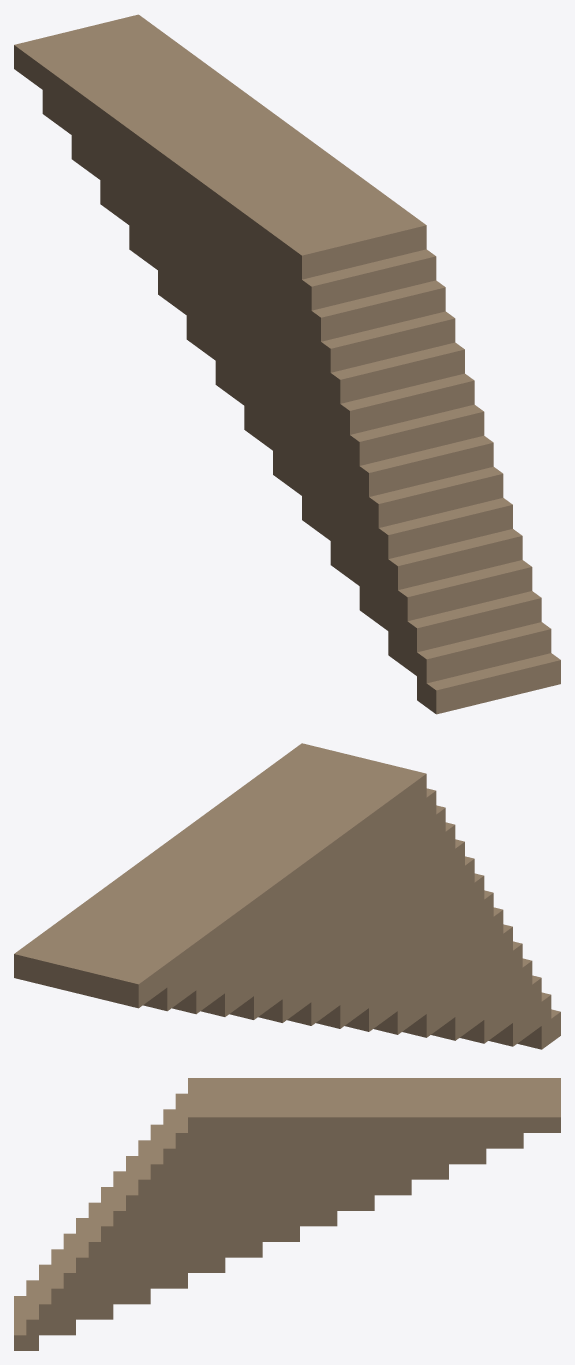
The model's file is iz2_stair_straight_wood.glb.
3 views of the same model, one above another, from view 1: azimuth 30°, elevation 25°; view 2: azimuth 150°, elevation 25°; view 3: azimuth 270°, elevation 25° (orthographic). The views are drawn at different scales.
Visible parts, largest first — view 1: step_15, step_14, step_13, step_12, step_11, step_10, step_09, step_08, step_07, step_06, step_05, step_04 (+3 smaller); view 2: step_15, step_14, step_13, step_12, step_11, step_10, step_09, step_08, step_07, step_06, step_05, step_04 (+3 smaller); view 3: step_15, step_14, step_13, step_12, step_11, step_10, step_09, step_08, step_07, step_06, step_05, step_04 (+3 smaller).
Boxes of the visible parts, box(x1,y1,x2,y2) form: step_15: box(14, 14, 426, 279); step_14: box(42, 90, 436, 310); step_13: box(71, 135, 445, 341); step_12: box(100, 180, 455, 372); step_11: box(129, 225, 464, 403); step_10: box(158, 271, 474, 434); step_09: box(186, 316, 484, 465); step_08: box(215, 361, 493, 496); step_07: box(244, 406, 503, 527); step_06: box(273, 451, 512, 558); step_05: box(302, 496, 522, 589); step_04: box(330, 541, 532, 621); step_15: box(14, 743, 426, 1008); step_14: box(143, 788, 436, 1011); step_13: box(172, 805, 445, 1014); step_12: box(201, 822, 455, 1016); step_11: box(229, 839, 464, 1019); step_10: box(258, 856, 474, 1022); step_09: box(287, 873, 484, 1025); step_08: box(316, 890, 493, 1028); step_07: box(345, 907, 503, 1031); step_06: box(373, 924, 512, 1034); step_05: box(402, 941, 522, 1037); step_04: box(431, 958, 532, 1040); step_15: box(188, 1078, 560, 1132); step_14: box(175, 1093, 523, 1148); step_13: box(163, 1109, 486, 1164); step_12: box(150, 1124, 448, 1179); step_11: box(138, 1140, 411, 1195); step_10: box(126, 1156, 374, 1210); step_09: box(113, 1171, 337, 1226); step_08: box(101, 1187, 299, 1241); step_07: box(88, 1202, 262, 1257); step_06: box(76, 1218, 225, 1272); step_05: box(63, 1233, 187, 1288); step_04: box(51, 1249, 150, 1304).
Size of the model in its own units: 1.03 by 2.85 by 6.05.
